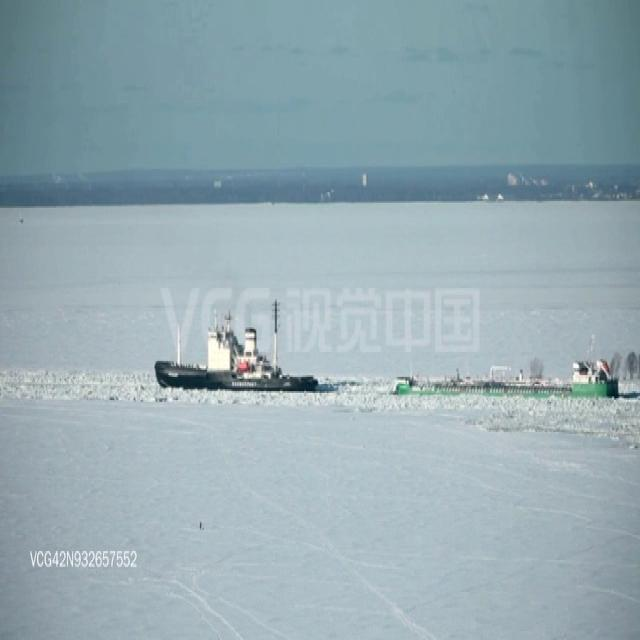cargoship: (392, 349, 618, 402)
houseboat: (155, 306, 320, 392)
